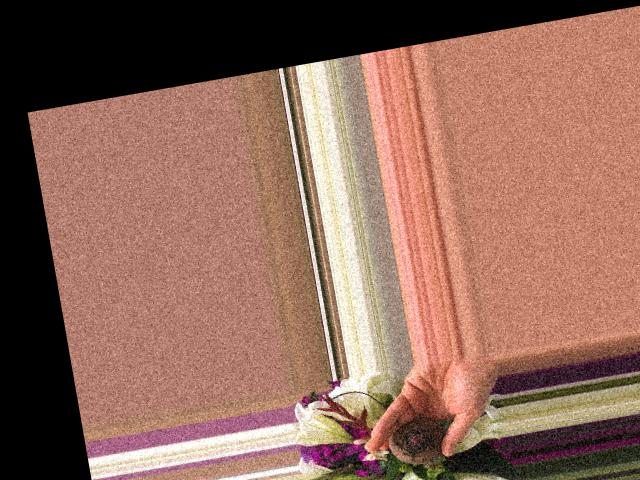beet: (383, 413, 448, 469)
